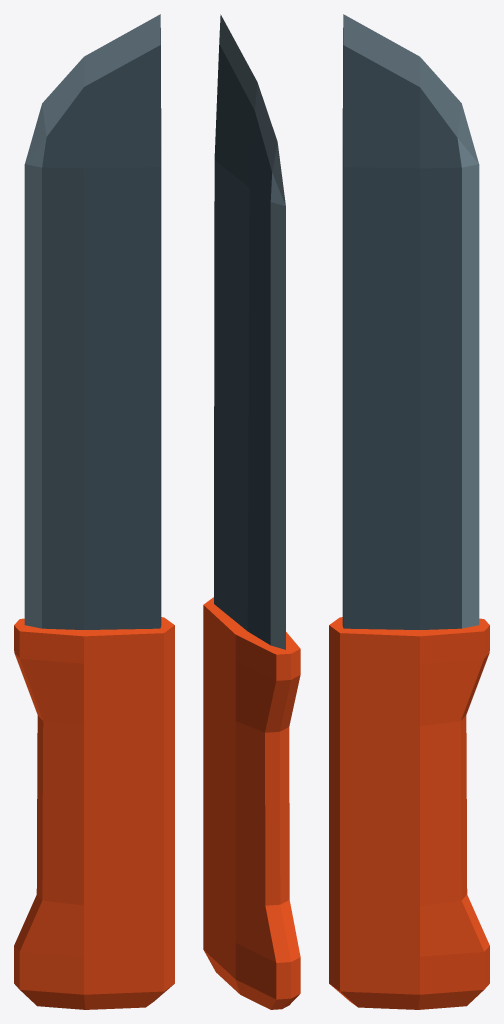
The model's file is knife-by-jeremy-0X5xcxjszwI.glb.
3 renders of one model, left to right at view 1: azimuth 90°, elevation 25°; view 2: azimuth 210°, elevation 25°; view 3: azimuth 270°, elevation 25°, orthographic. The views are drawn at different scales.
Visible parts, largest first — view 1: Knife_Circle.028; view 2: Knife_Circle.028; view 3: Knife_Circle.028.
Boxes of the visible parts, x1,y1,x2,y2 form: Knife_Circle.028: (14,14,174,1009); Knife_Circle.028: (203,14,300,1009); Knife_Circle.028: (329,14,489,1009).
Bounding box in the file's own units: 0.4964 × 10.24 × 1.51.
